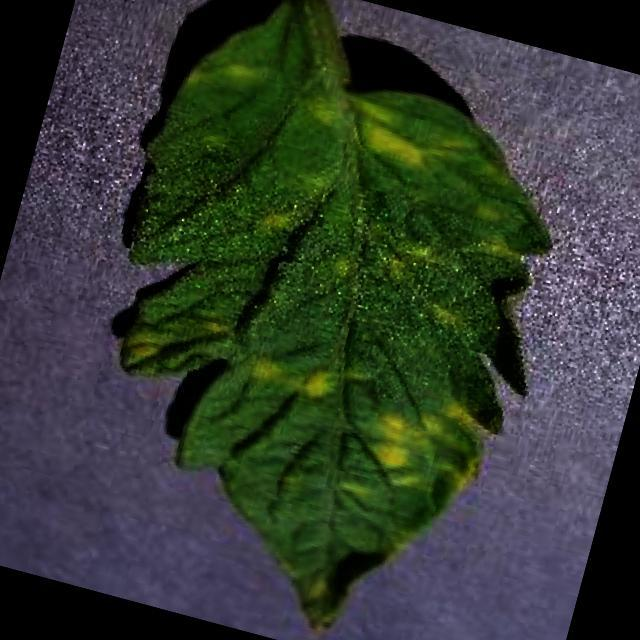Tomato mold leaf: (35, 0, 608, 640)
